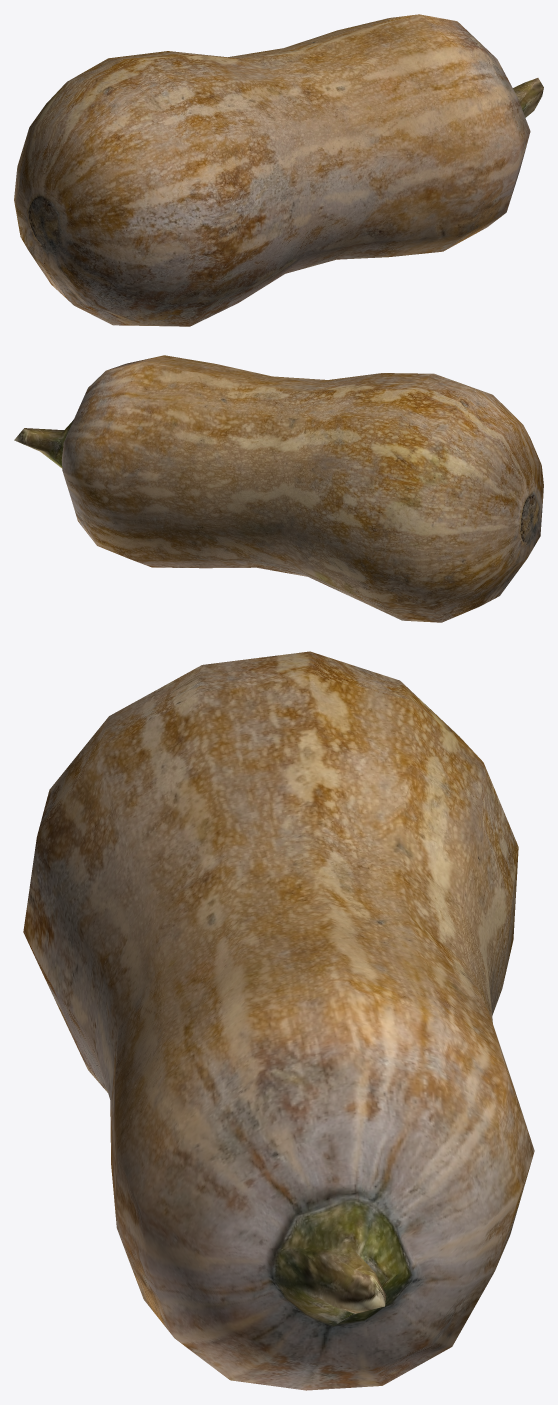
Rendered from A128_Butternut_Squash_low.fbx.
3 views of the same model, one above another, from view 1: azimuth 30°, elevation 25°; view 2: azimuth 150°, elevation 25°; view 3: azimuth 270°, elevation 25° (orthographic). The views are drawn at different scales.
Parts seen in each view (by area): view 1: A128_Butternut_Squash_low; view 2: A128_Butternut_Squash_low; view 3: A128_Butternut_Squash_low.
Part boxes in pixels (left/top/right/bottom): A128_Butternut_Squash_low: left=14, top=14, right=543, bottom=326; A128_Butternut_Squash_low: left=14, top=355, right=543, bottom=622; A128_Butternut_Squash_low: left=23, top=651, right=534, bottom=1390.
Bounding box in the file's own units: 29.3 × 13.33 × 13.15.
1 material, 1 textured.
